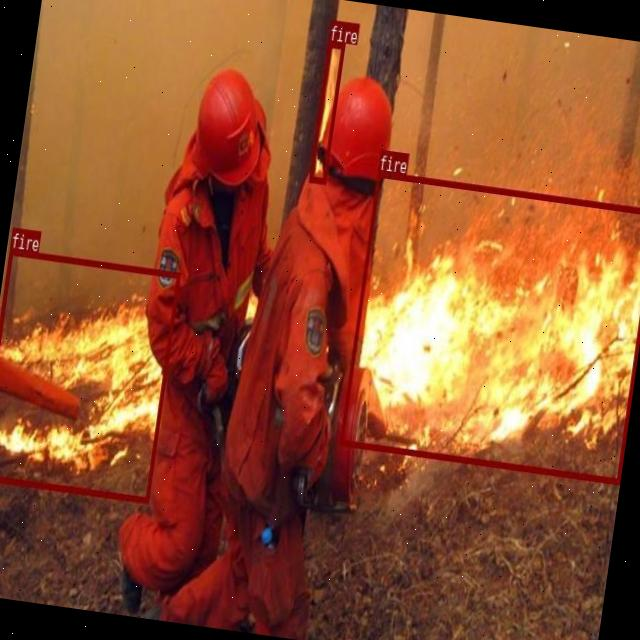fire: (339, 169, 640, 483), (0, 248, 180, 503), (308, 40, 345, 184)
